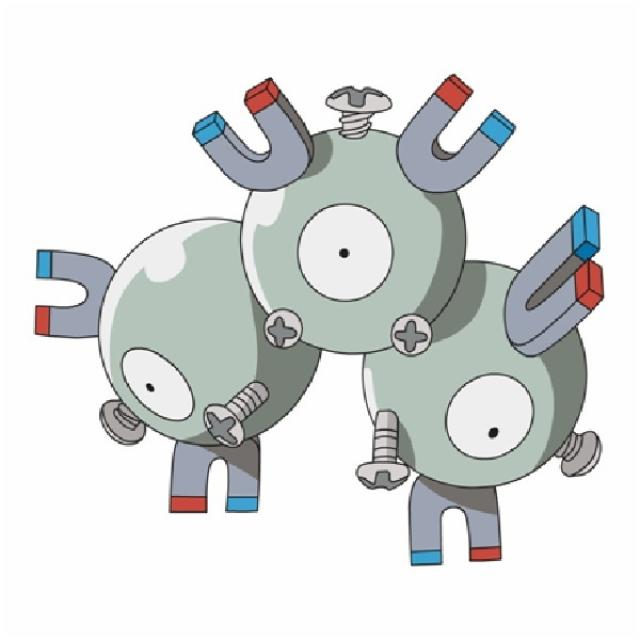Magneton: (81, 77, 605, 526)
